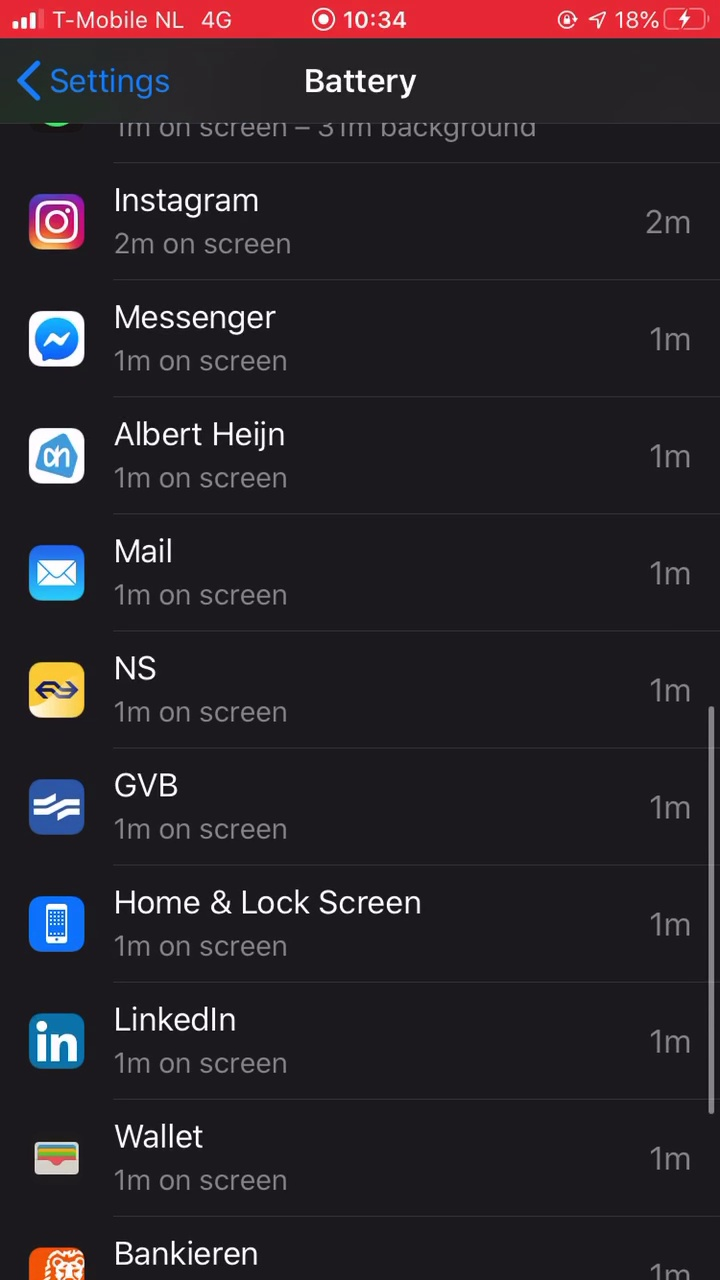app: (9, 175, 711, 273), (7, 294, 709, 392), (9, 400, 711, 498), (3, 523, 705, 621), (5, 641, 707, 739), (3, 758, 705, 856), (10, 869, 712, 967), (4, 991, 706, 1089), (4, 1113, 706, 1211)
